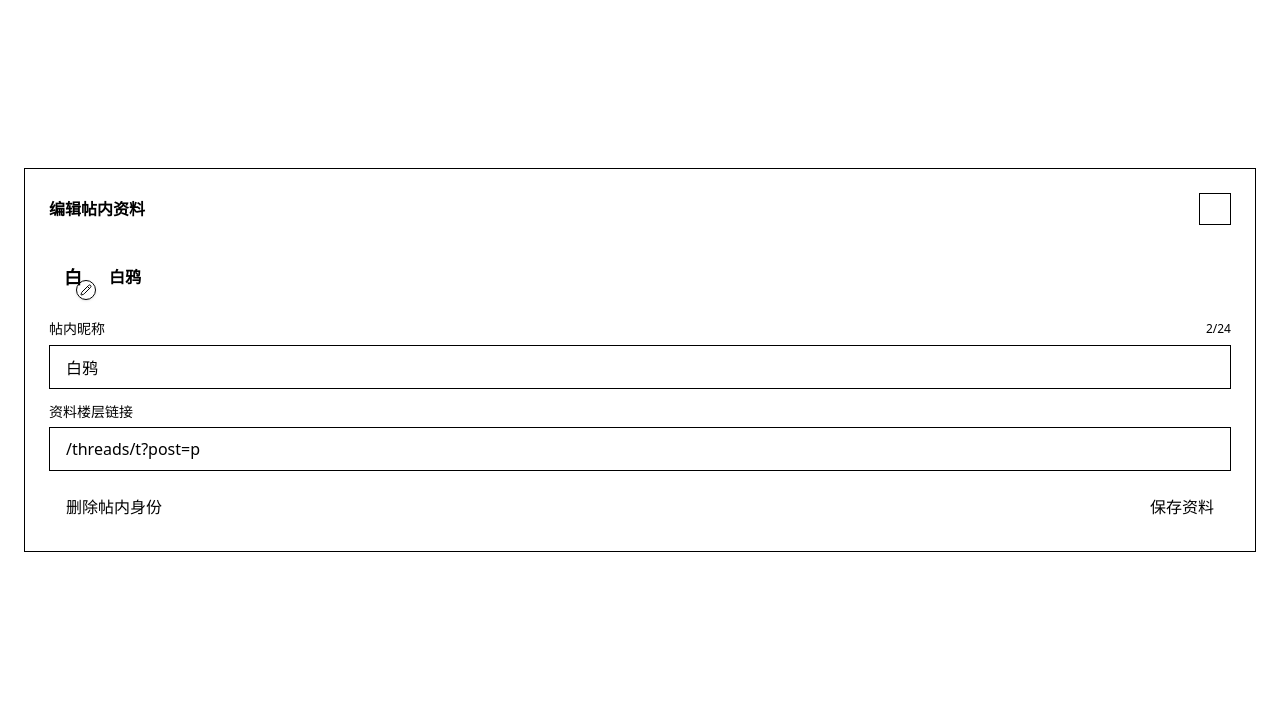
Test: 资料能力缺失隐藏字段，字段校验失败保留输入并关联可访问错误
This screenshot has width=1280, height=720.
Replace the text in the field labelled "资料楼层链接" with "/threads/t?post=unavailable" at (640, 449), box x1=49 y1=427 x2=1231 y2=471
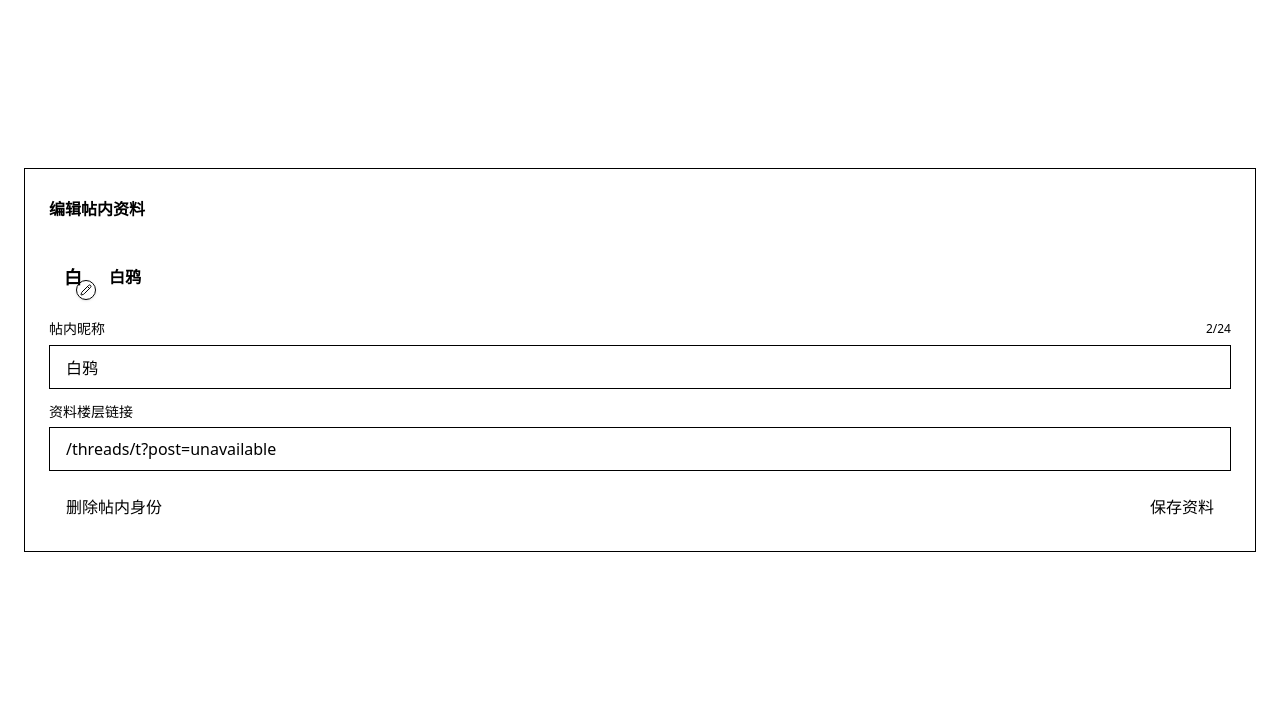
Click the button "保存资料" at (1182, 507), box x1=1133 y1=487 x2=1231 y2=527
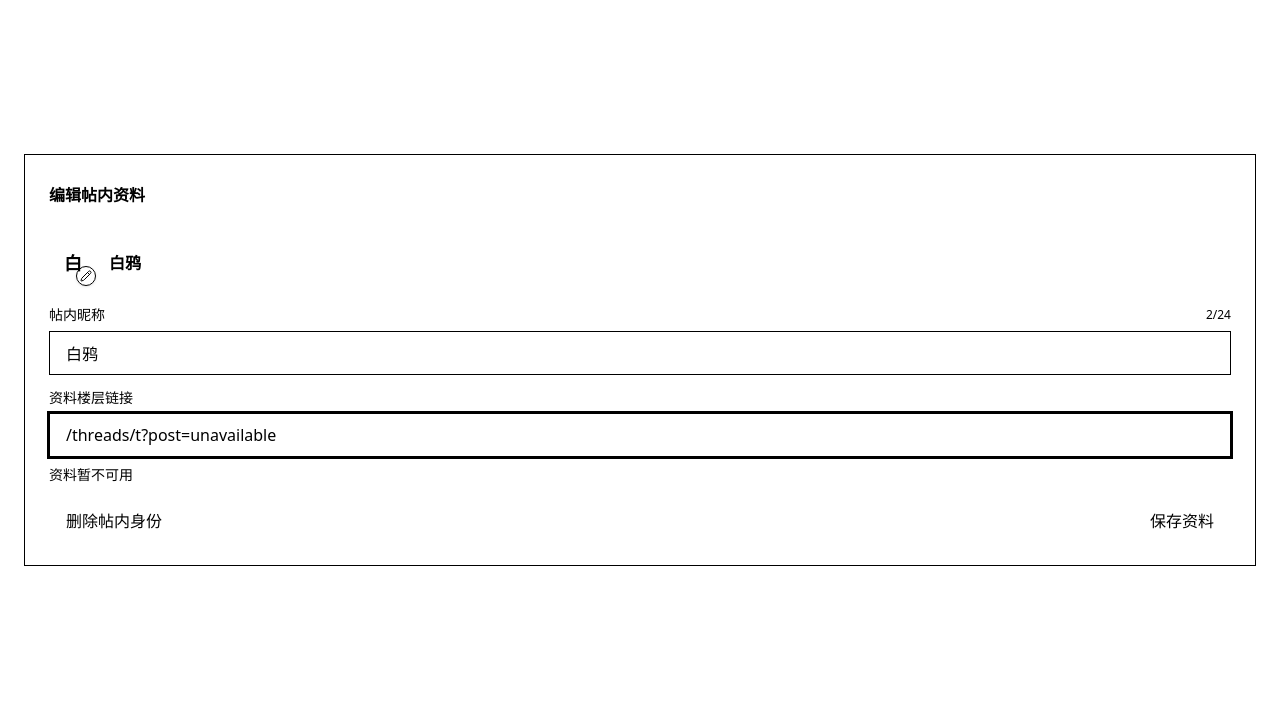
Now the message reads "资料暂不可用", box x1=49 y1=465 x2=133 y2=484
